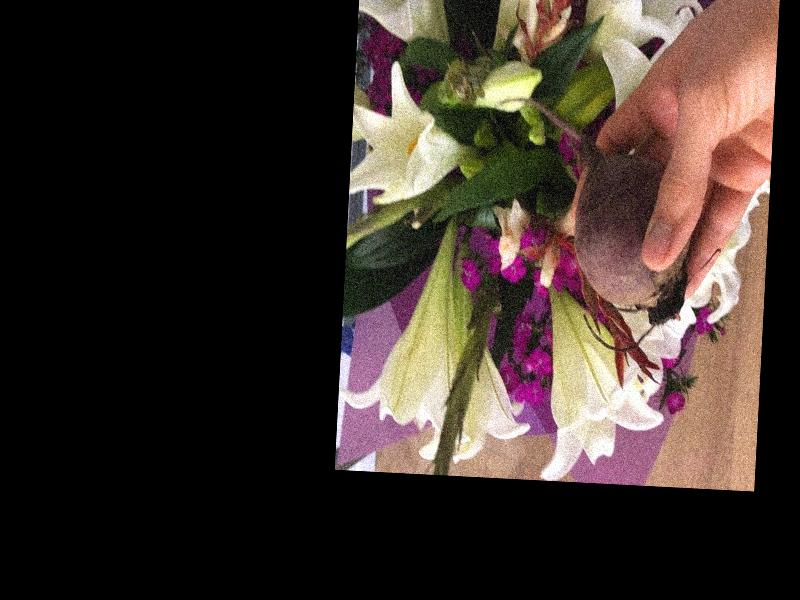Beet: (485, 95, 697, 355)
